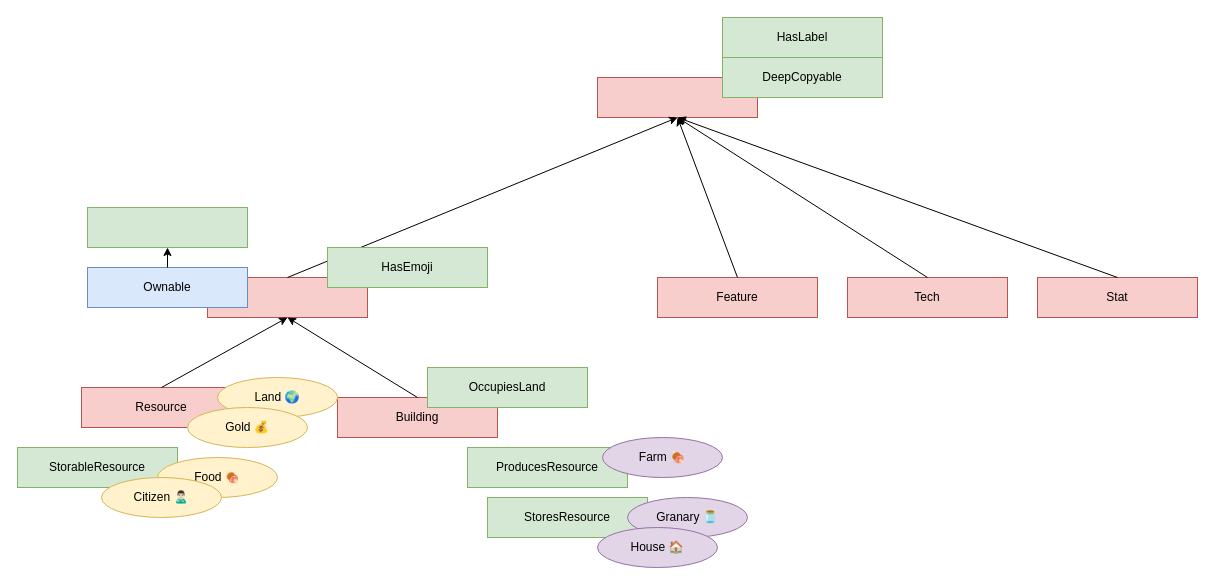
This 1215x585 diagram has some shape labels left out. Each missing label, with the centre of its shape:
"Asset" goes at point 287,297.
"Entity" goes at point 677,97.
"HasLabels" goes at point 167,227.
